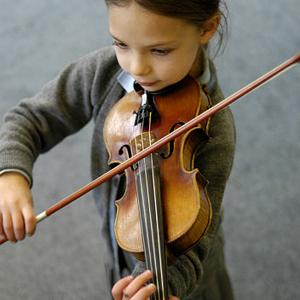person: (2, 2, 238, 300)
